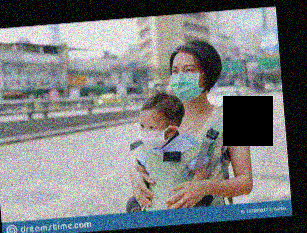with_mask: (168, 62, 205, 102), (137, 118, 170, 149)
